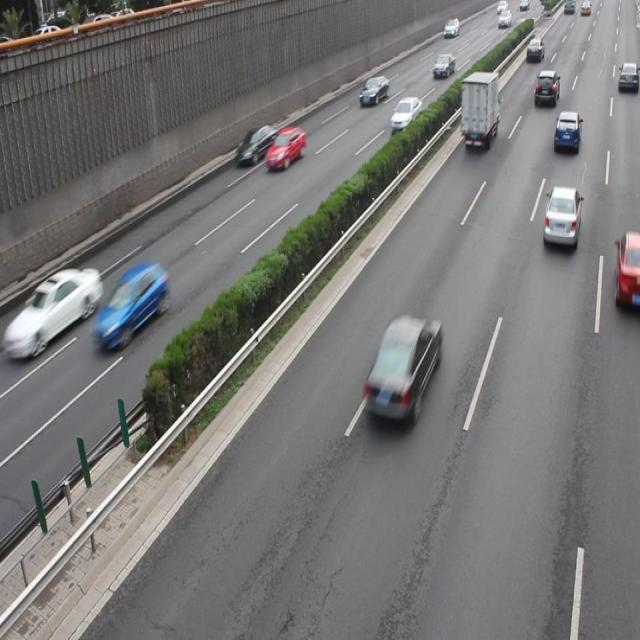bus: (459, 71, 499, 144)
car: (360, 315, 440, 426), (19, 267, 102, 359), (92, 262, 167, 350), (541, 185, 580, 249), (613, 232, 640, 308), (235, 122, 277, 168), (264, 126, 304, 170), (389, 94, 422, 131), (552, 109, 579, 154)
